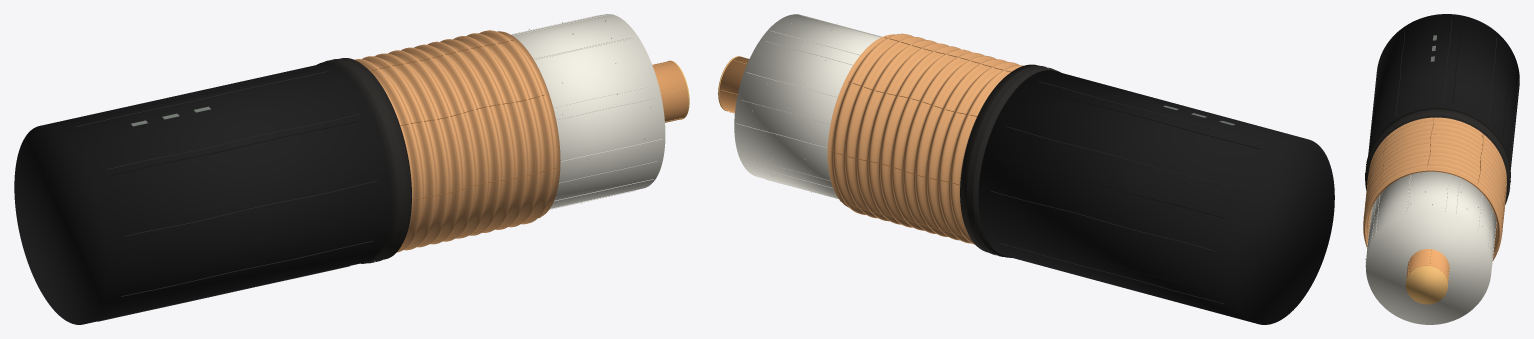
The model's file is rf-ldf1-macro.glb.
3 renders of one model, left to right at view 1: azimuth 30°, elevation 25°; view 2: azimuth 150°, elevation 25°; view 3: azimuth 270°, elevation 25°, orthographic. The views are drawn at different scales.
Visible parts, largest first — view 1: macro hardline jacket body, annular corrugated solid shield, macro foam dielectric exposed core, hardline jacket cut wall, rounded jacket cut lip, polished solid center conductor; view 2: macro hardline jacket body, annular corrugated solid shield, macro foam dielectric exposed core, hardline jacket cut wall, rounded jacket cut lip, polished solid center conductor; view 3: macro foam dielectric exposed core, macro hardline jacket body, annular corrugated solid shield, hardline jacket cut wall, polished conductor cut face glow, polished solid center conductor, rounded jacket cut lip, inner jacket shadow bevel.
Part boxes in pixels (x1,y1,x2,y2): macro hardline jacket body: [14, 63, 391, 324]; annular corrugated solid shield: [354, 30, 560, 252]; macro foam dielectric exposed core: [512, 14, 665, 208]; hardline jacket cut wall: [317, 58, 410, 263]; rounded jacket cut lip: [323, 59, 404, 263]; polished solid center conductor: [652, 61, 688, 122]; macro hardline jacket body: [978, 70, 1334, 324]; annular corrugated solid shield: [827, 33, 1023, 244]; macro foam dielectric exposed core: [734, 14, 881, 198]; hardline jacket cut wall: [960, 64, 1060, 257]; rounded jacket cut lip: [967, 65, 1054, 256]; polished solid center conductor: [719, 56, 749, 112]; macro foam dielectric exposed core: [1365, 171, 1496, 324]; macro hardline jacket body: [1368, 14, 1519, 169]; annular corrugated solid shield: [1363, 117, 1506, 260]; hardline jacket cut wall: [1365, 108, 1510, 204]; polished conductor cut face glow: [1405, 265, 1447, 304]; polished solid center conductor: [1406, 249, 1449, 282]; rounded jacket cut lip: [1365, 109, 1510, 194]; inner jacket shadow bevel: [1366, 116, 1508, 185].
Size of the model in its own units: 6.48 by 1.92 by 2.06.
